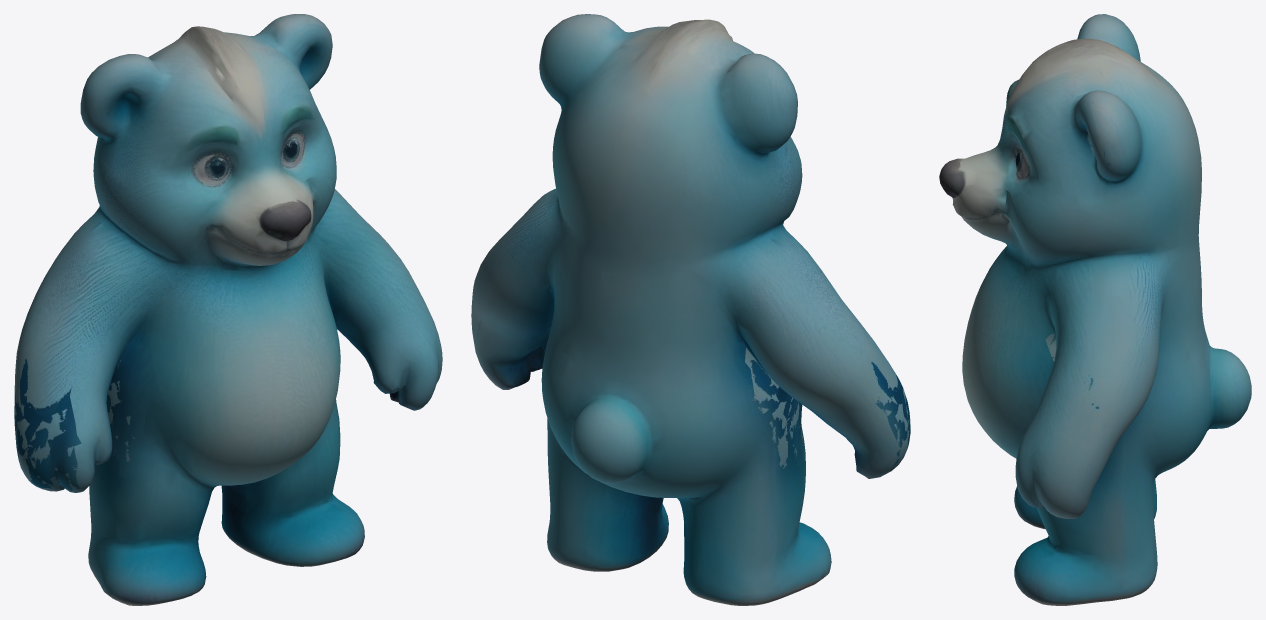
Rendered from keen.glb.
3 renders of one model, left to right at view 1: azimuth 30°, elevation 25°; view 2: azimuth 150°, elevation 25°; view 3: azimuth 270°, elevation 25°, orthographic. The views are drawn at different scales.
Parts seen in each view (by area): view 1: Keen_Companion; view 2: Keen_Companion; view 3: Keen_Companion.
Part boxes in pixels (bbox=[...]): Keen_Companion: bbox=[14, 14, 442, 605]; Keen_Companion: bbox=[471, 14, 910, 605]; Keen_Companion: bbox=[939, 14, 1251, 605].
Size of the model in its own units: 1.19 by 1.45 by 0.8122.
1 material, 1 textured.
